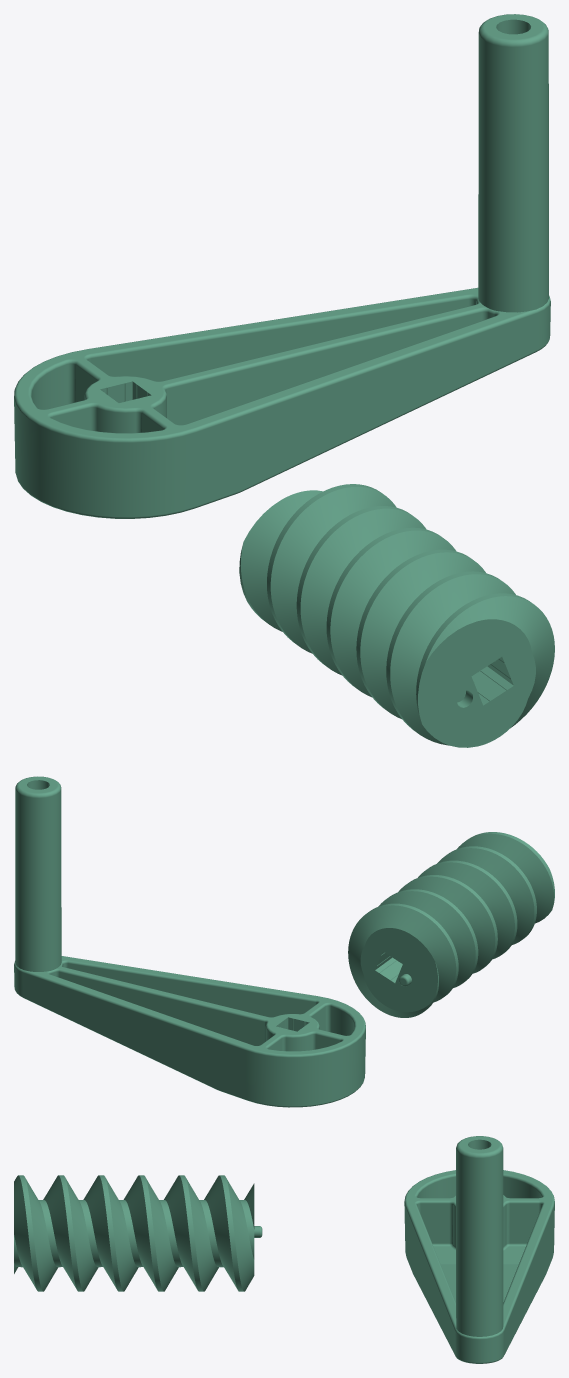
Rendered from CrankandScrew.fbx.
The picture shows the model from 3 angles, top to bottom: view 1: azimuth 30°, elevation 25°; view 2: azimuth 150°, elevation 25°; view 3: azimuth 270°, elevation 25°; orthographic projection. The views are drawn at different scales.
Visible parts, largest first — view 1: Hand Crank, Lead Screw; view 2: Hand Crank, Lead Screw; view 3: Hand Crank, Lead Screw.
Boxes of the visible parts, x1,y1,x2,y2 form: Hand Crank: (14, 14, 550, 518); Lead Screw: (239, 484, 554, 747); Hand Crank: (14, 776, 365, 1107); Lead Screw: (348, 832, 554, 1017); Hand Crank: (404, 1136, 554, 1363); Lead Screw: (14, 1175, 262, 1291).
Bounding box in the file's own units: 200 × 144 × 269.
